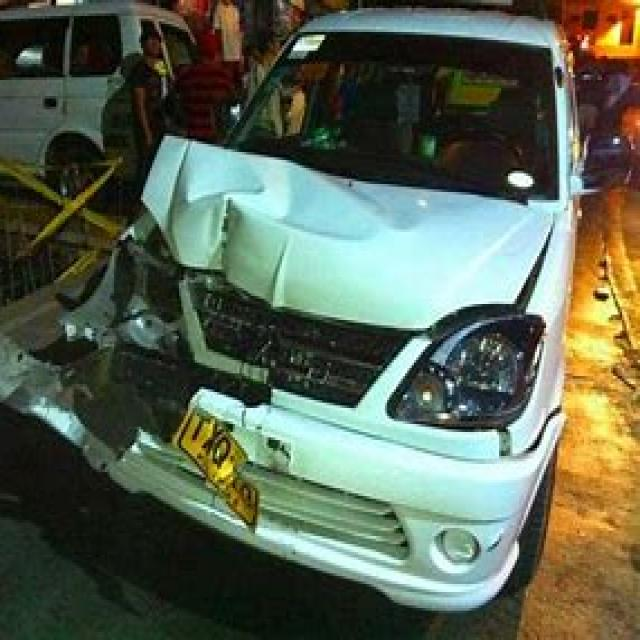Accident: (37, 96, 489, 597)
